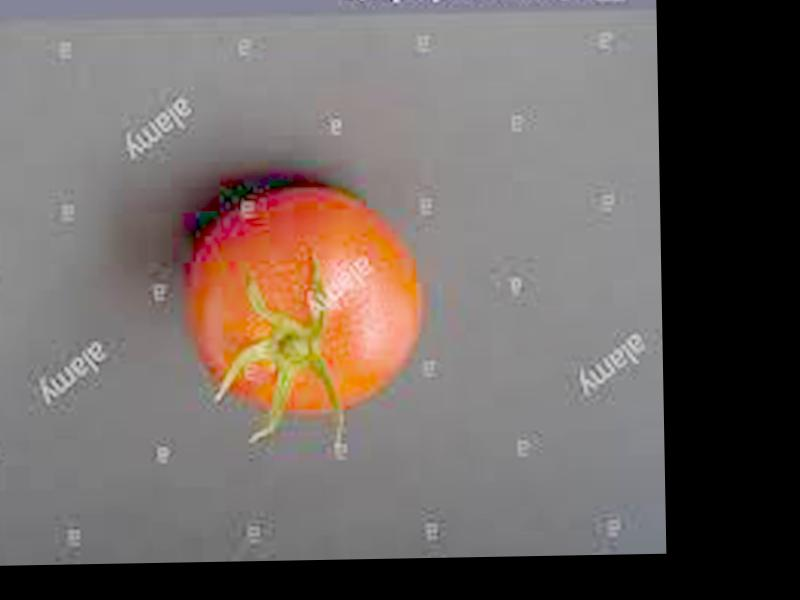Tomato: (183, 195, 425, 418)
